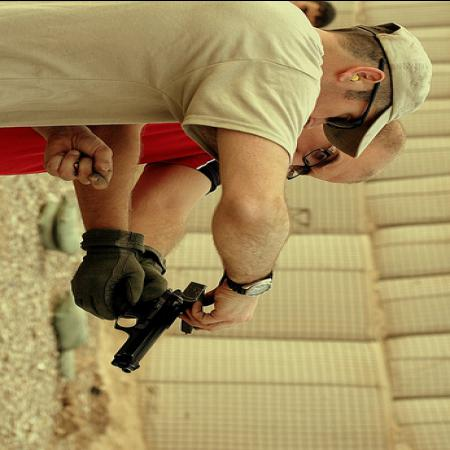Pistol: (100, 289, 196, 372)
